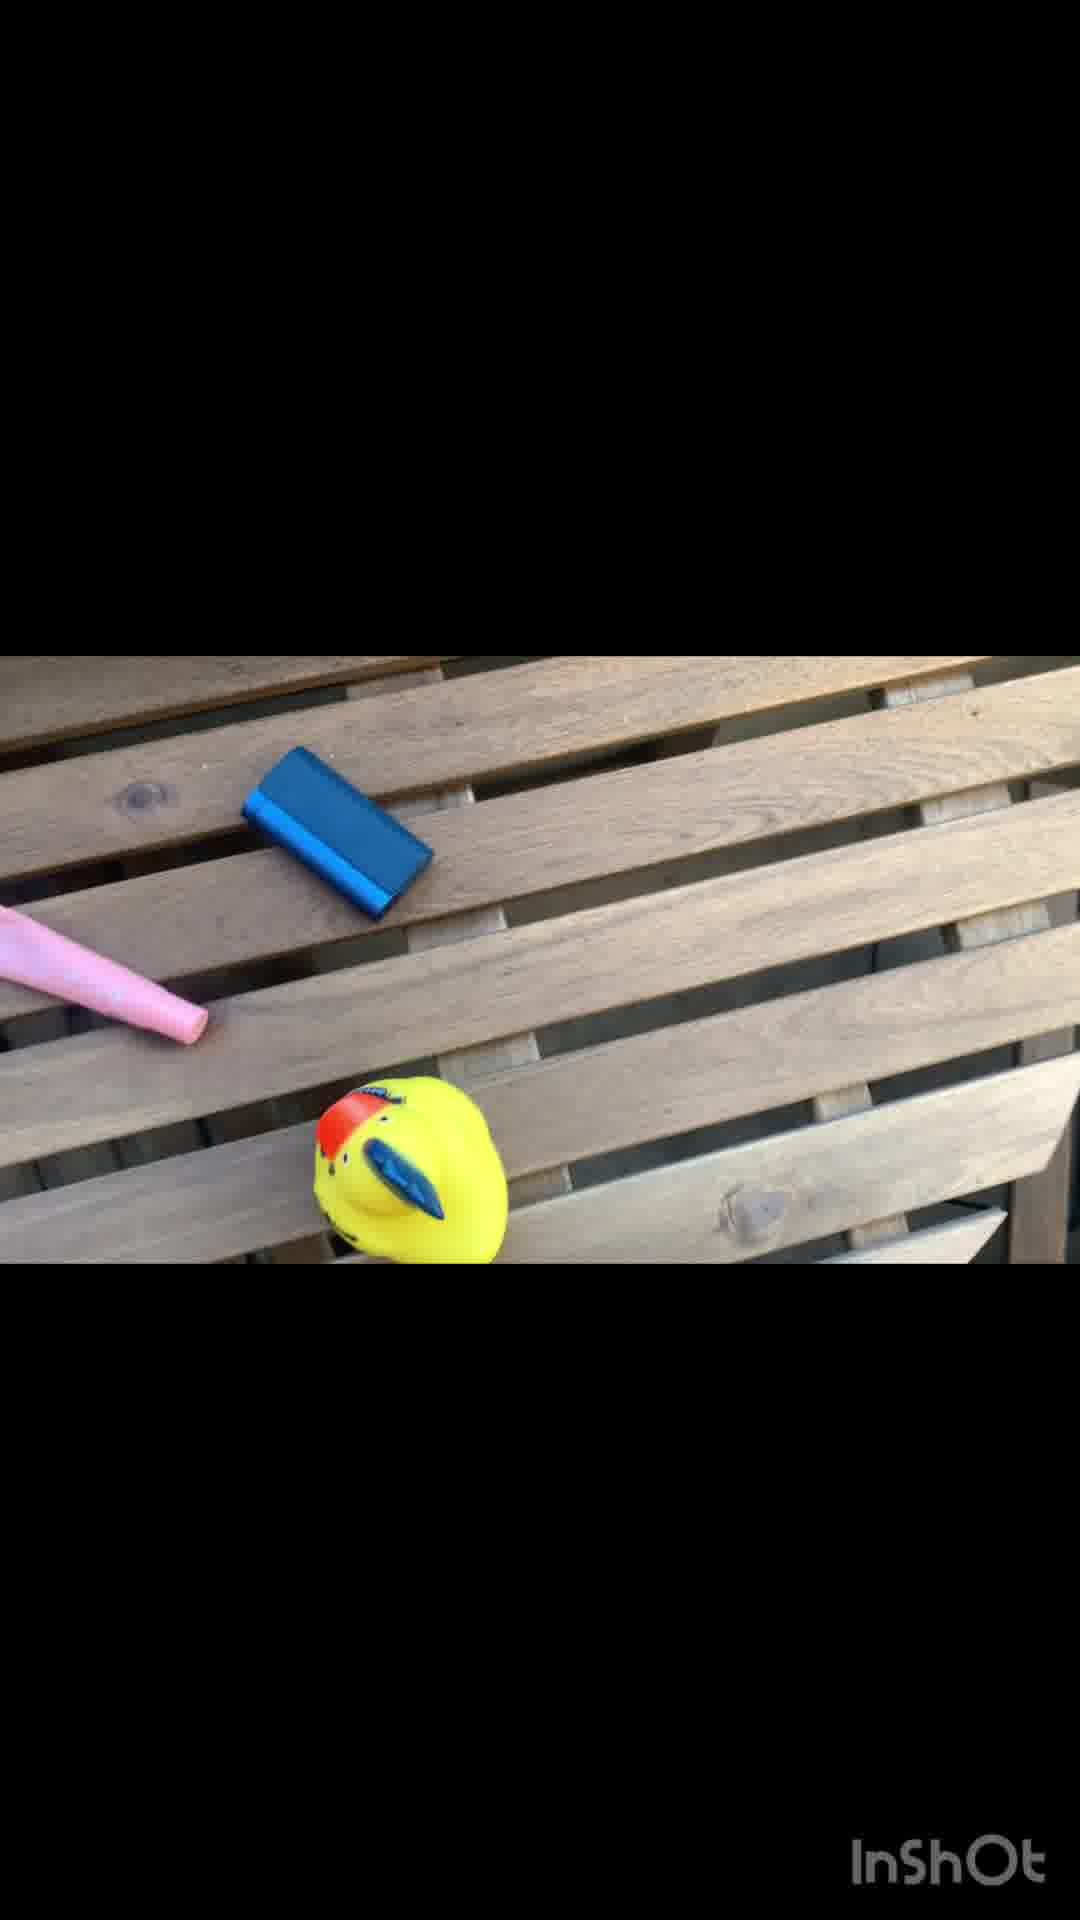duck: (305, 1069, 526, 1273)
glo: (241, 741, 444, 920)
lip balm: (1, 890, 218, 1059)
